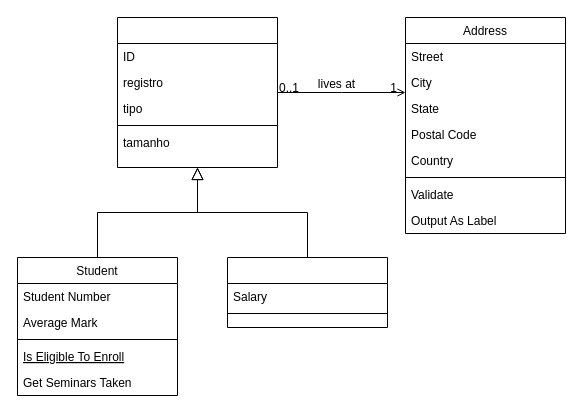
Some shapes in this 583 by 416 pixel diagram are drawn without their labels. Each missing label, with the box of its shape:
Balão: (116, 16, 278, 168)
Professor: (226, 256, 388, 328)
